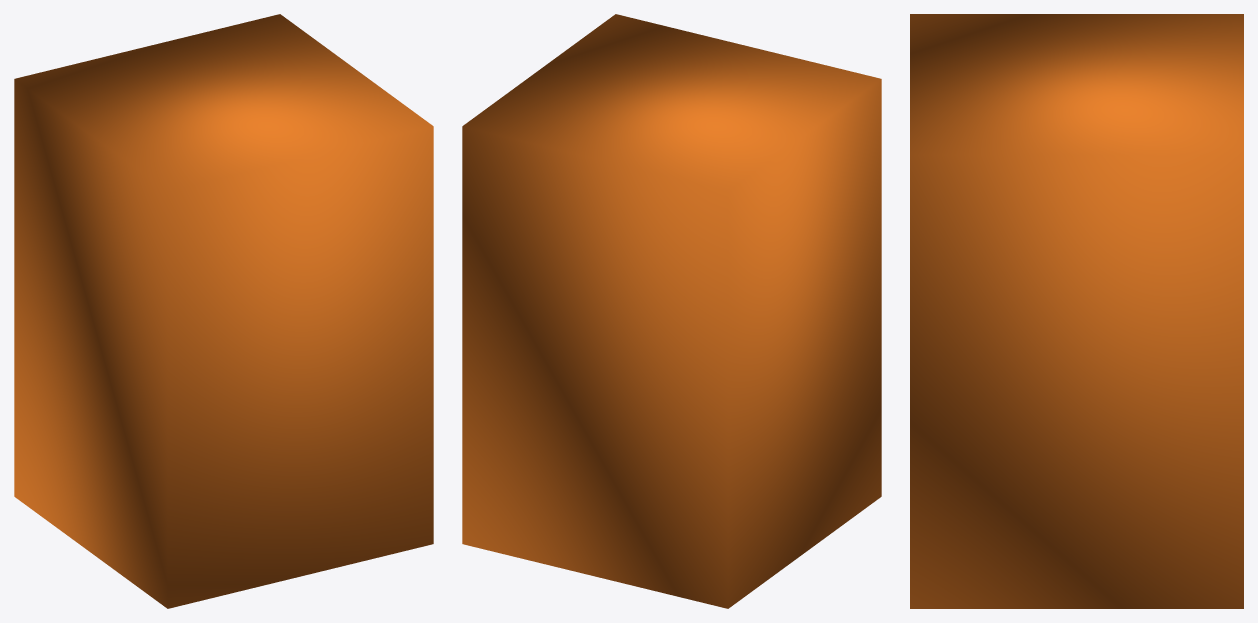
File: miel.glb
The picture shows the model from 3 angles, left to right: view 1: azimuth 30°, elevation 25°; view 2: azimuth 150°, elevation 25°; view 3: azimuth 270°, elevation 25°; orthographic projection. The views are drawn at different scales.
Parts seen in each view (by area): view 1: Liquid Domain; view 2: Liquid Domain; view 3: Liquid Domain.
Part boxes in pixels (box(x1,y1,x2,y2)): Liquid Domain: box(14, 14, 433, 608); Liquid Domain: box(462, 14, 881, 608); Liquid Domain: box(910, 14, 1243, 608).
Bounding box in the file's own units: 9.07 × 13.61 × 9.07.
